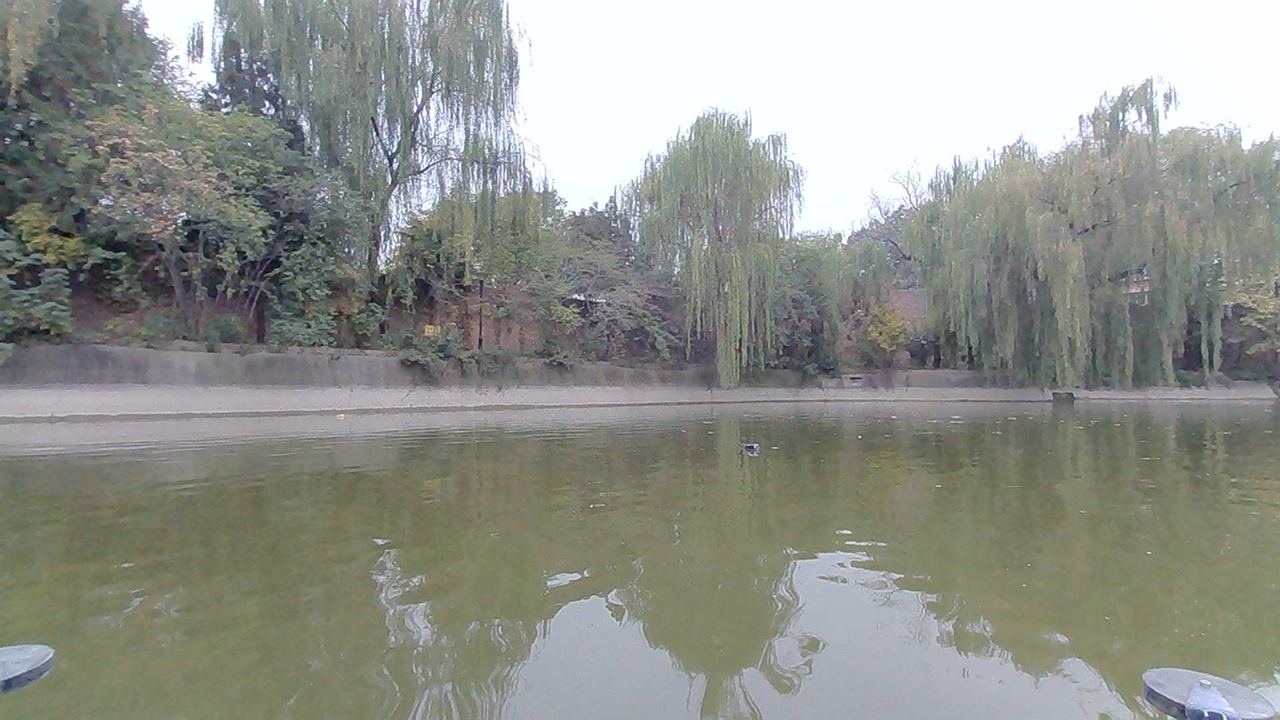bottle: (740, 433, 768, 459)
